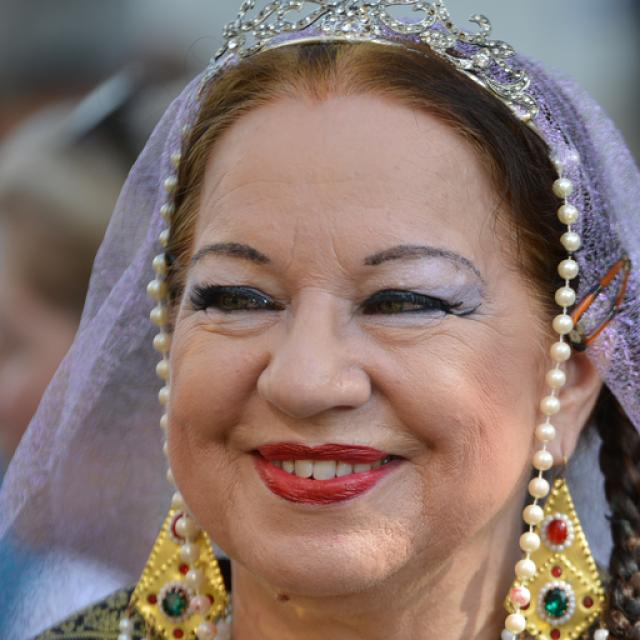Wrinkle: (203, 172, 293, 214), (326, 230, 370, 286), (280, 221, 305, 278)
